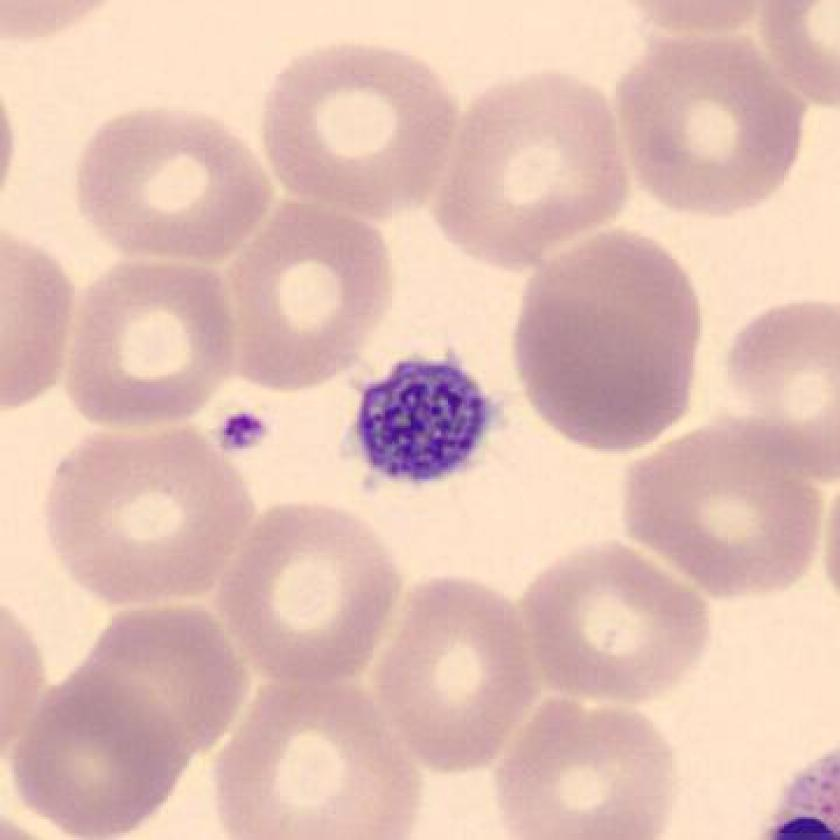platelets: (344, 348, 512, 492), (213, 399, 274, 457)
